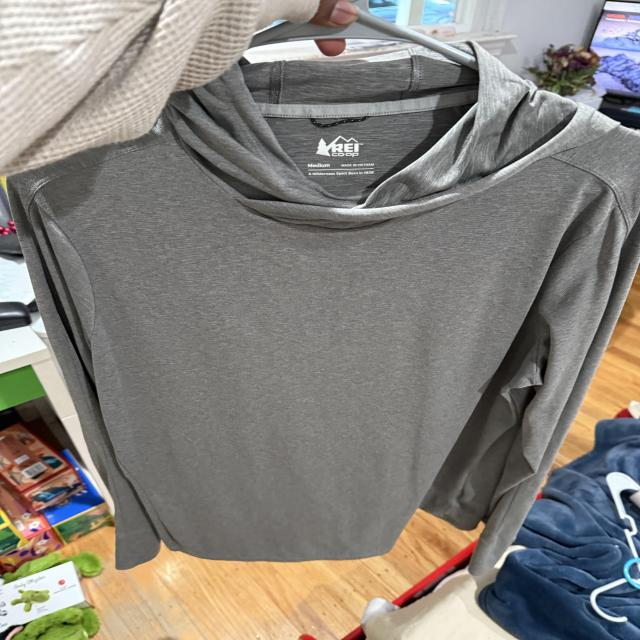back_tag: (294, 133, 384, 183)
